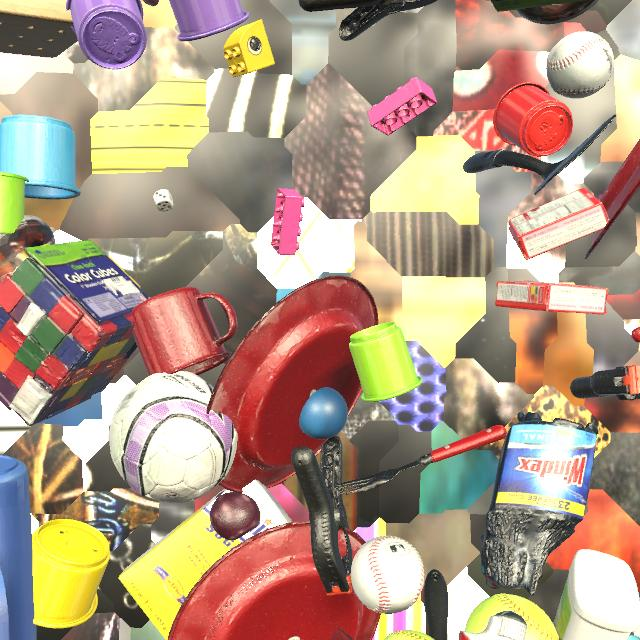ycb_004_sugar_box: (119, 480, 293, 640)
ycb_009_gelatin_box: (508, 188, 609, 260), (495, 280, 609, 315)
ycb_018_plum: (210, 491, 261, 540)
